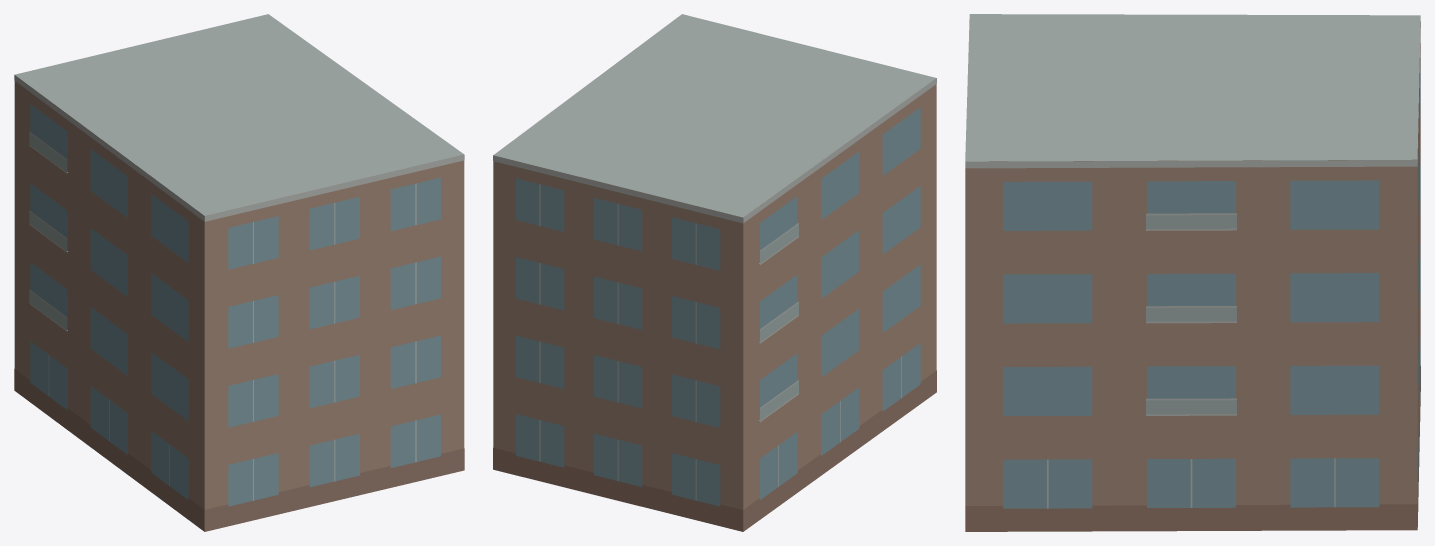
File: survey-upis-32608759.glb
The picture shows the model from 3 angles, left to right: view 1: azimuth 30°, elevation 25°; view 2: azimuth 150°, elevation 25°; view 3: azimuth 270°, elevation 25°; orthographic projection. The views are drawn at different scales.
Visible parts, largest first — view 1: survey-upis-32608759.tmp; view 2: survey-upis-32608759.tmp; view 3: survey-upis-32608759.tmp.
Part boxes in pixels (x1,y1,x2,y2): survey-upis-32608759.tmp: (14, 14, 464, 531); survey-upis-32608759.tmp: (493, 14, 936, 531); survey-upis-32608759.tmp: (965, 14, 1420, 531).
Bounding box in the file's own units: 11.29 × 13.2 × 14.73.
